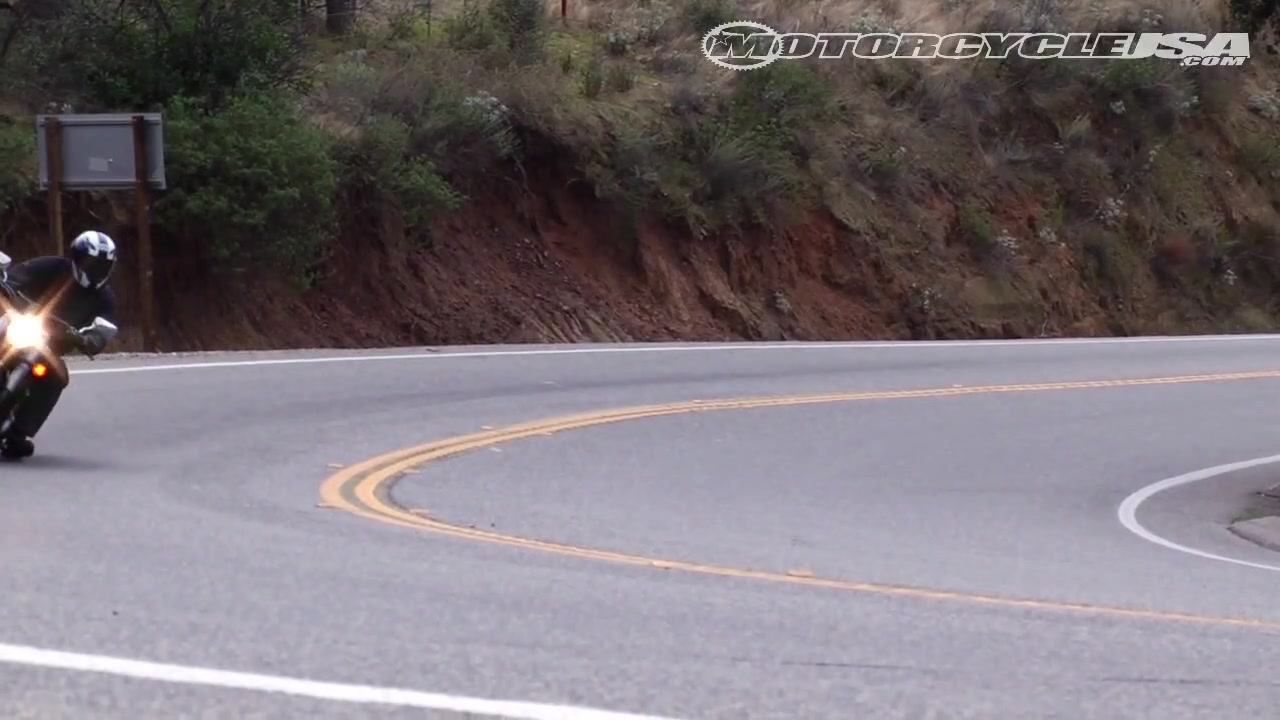motorbike: (1, 251, 115, 467)
